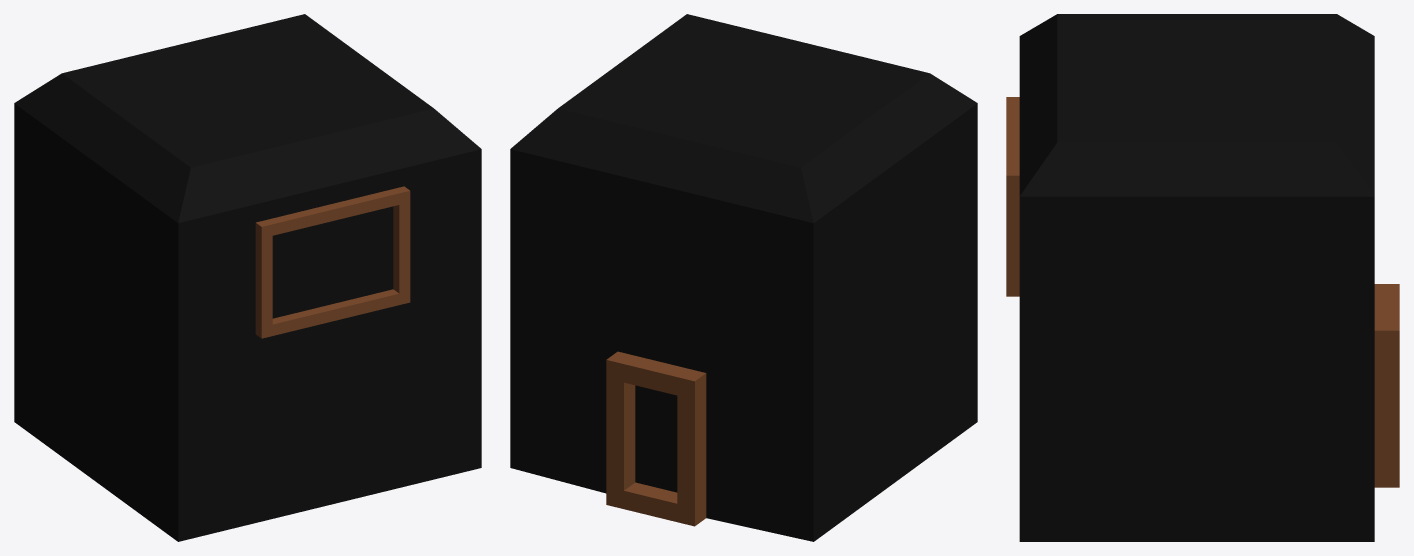
Rendered from hola.fbx.
The picture shows the model from 3 angles, left to right: view 1: azimuth 30°, elevation 25°; view 2: azimuth 150°, elevation 25°; view 3: azimuth 270°, elevation 25°; orthographic projection. The views are drawn at different scales.
Visible parts, largest first — view 1: Cube, Cube.002; view 2: Cube, Cube.001; view 3: Cube, Cube.001, Cube.002.
Boxes of the visible parts, bbox=[...] form: Cube: bbox=[14, 14, 481, 541]; Cube.002: bbox=[255, 186, 410, 338]; Cube: bbox=[510, 14, 977, 541]; Cube.001: bbox=[606, 351, 706, 526]; Cube: bbox=[1019, 14, 1374, 541]; Cube.001: bbox=[1374, 284, 1399, 487]; Cube.002: bbox=[1006, 97, 1019, 296].
Bounding box in the file's own units: 502 × 563 × 519.
